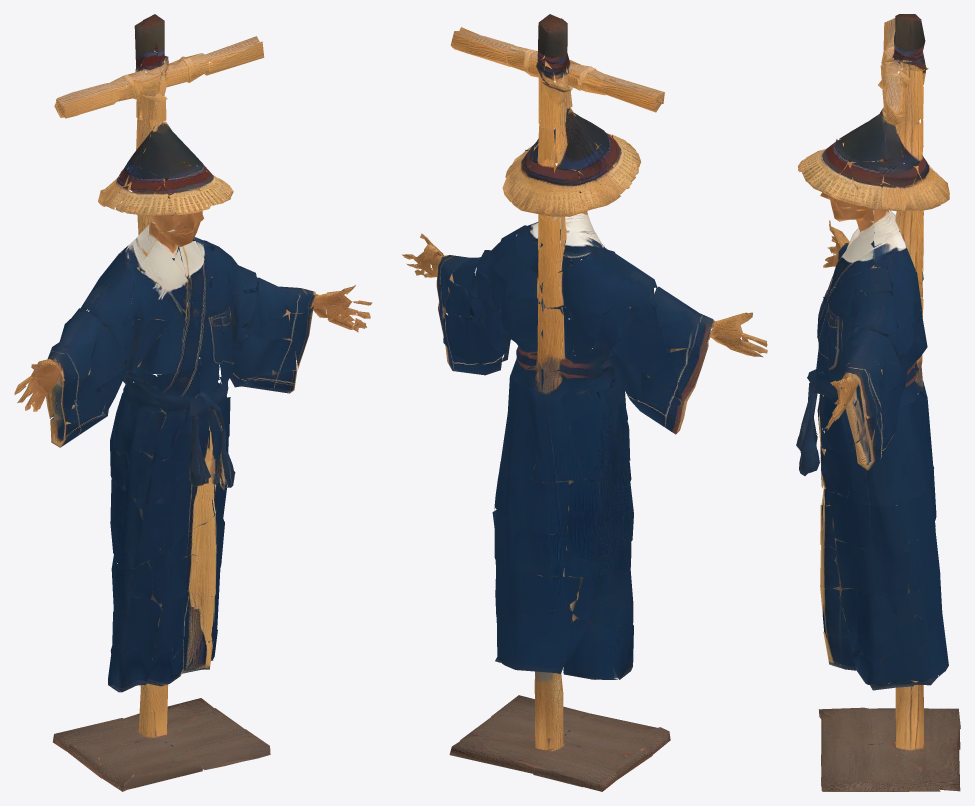
Rendered from kakashi.glb.
3 views of the same model, side by side, from view 1: azimuth 30°, elevation 25°; view 2: azimuth 150°, elevation 25°; view 3: azimuth 270°, elevation 25° (orthographic). The views are drawn at different scales.
Visible parts, largest first — view 1: Mesh_0; view 2: Mesh_0; view 3: Mesh_0.
Part boxes in pixels (box(x1,y1,x2,y2)): Mesh_0: box(14, 14, 372, 791); Mesh_0: box(402, 14, 767, 791); Mesh_0: box(796, 14, 960, 791).
Bounding box in the file's own units: 0.9853 × 1.9 × 0.3838.
1 material, 1 textured.
